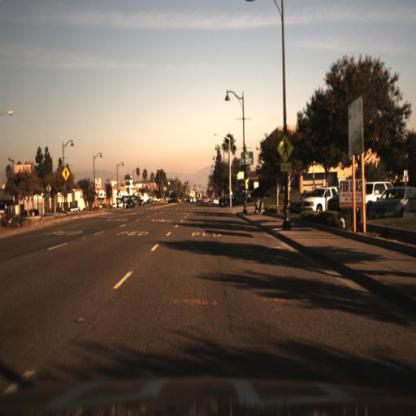car: (299, 187, 346, 219), (328, 181, 356, 221), (126, 196, 138, 212)
